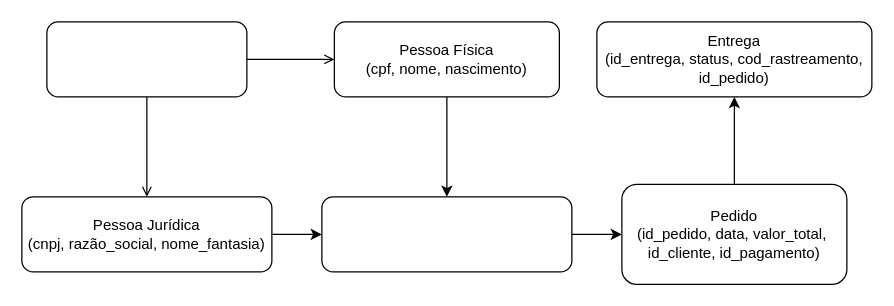
Some shapes in this 894 by 306 pixel diagram are drawn without their labels. Each missing label, with the centre of its shape:
"Cliente (id_cliente, tipo_cliente)" goes at point 146,59.
"Forma Pagamento (id_cliente, id_pagamento)" goes at point 446,234.
